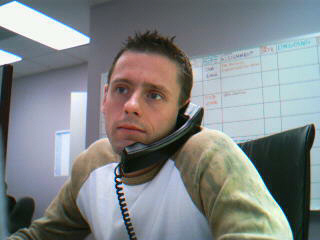person: (1, 30, 296, 240)
